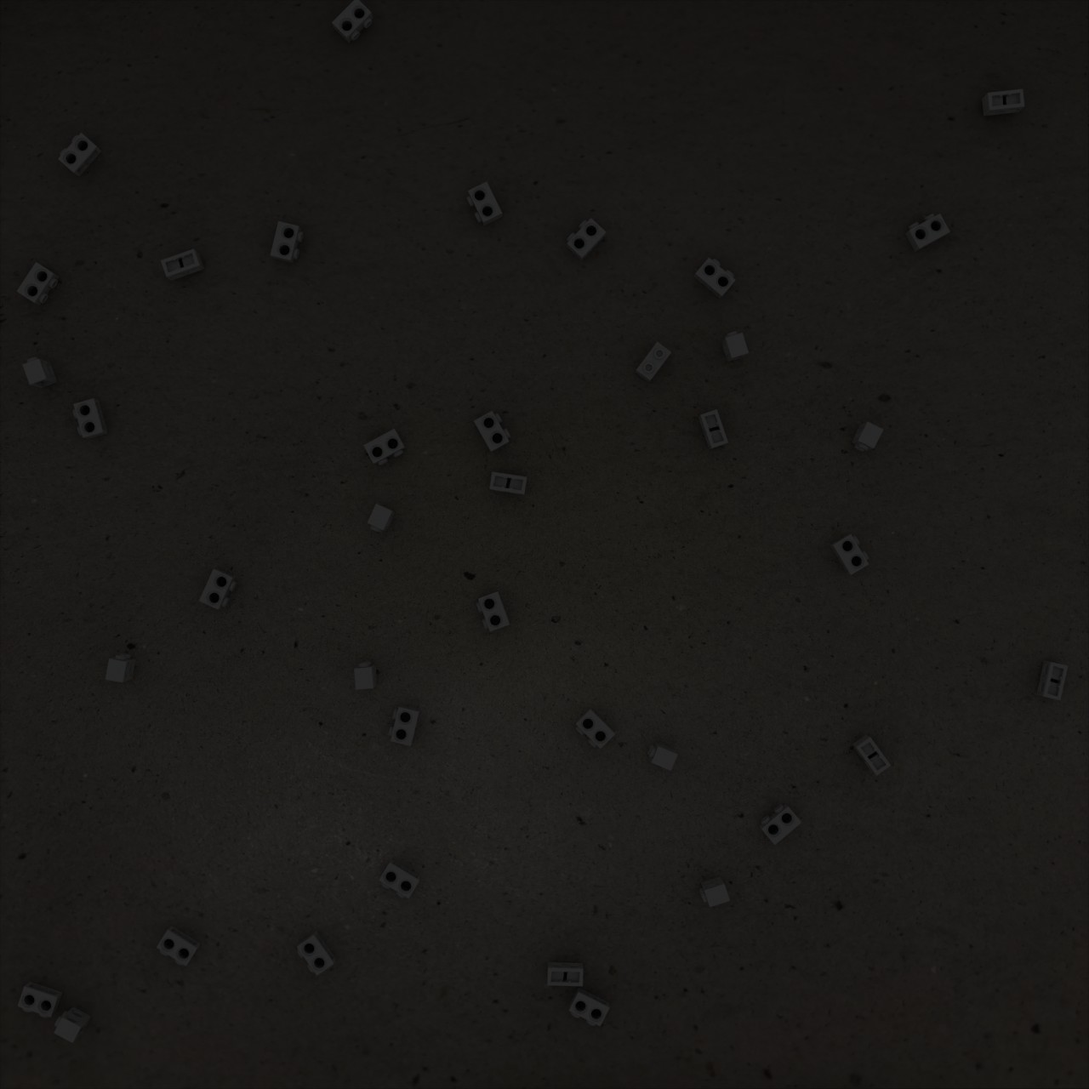lego: (58, 132, 102, 177), (16, 262, 59, 306), (156, 925, 201, 966), (297, 930, 337, 976), (759, 803, 802, 845), (694, 257, 736, 299), (332, 0, 373, 43), (905, 213, 950, 252), (566, 218, 606, 261), (17, 981, 63, 1018), (379, 859, 421, 899), (575, 707, 615, 749), (466, 181, 503, 226), (569, 987, 610, 1027), (852, 734, 891, 776), (363, 428, 406, 466), (830, 534, 869, 575), (199, 569, 237, 610), (474, 411, 511, 453), (635, 342, 672, 383), (73, 398, 108, 439), (160, 249, 204, 281), (476, 591, 510, 632), (270, 221, 303, 263), (388, 705, 421, 746), (54, 1007, 91, 1043), (1036, 660, 1068, 700), (698, 409, 728, 450), (982, 89, 1025, 116), (22, 357, 58, 388), (851, 421, 884, 452), (699, 876, 730, 907), (105, 653, 136, 683), (547, 962, 583, 987), (647, 742, 678, 771), (721, 331, 749, 363), (489, 472, 527, 495), (367, 504, 396, 533), (354, 661, 377, 690)
